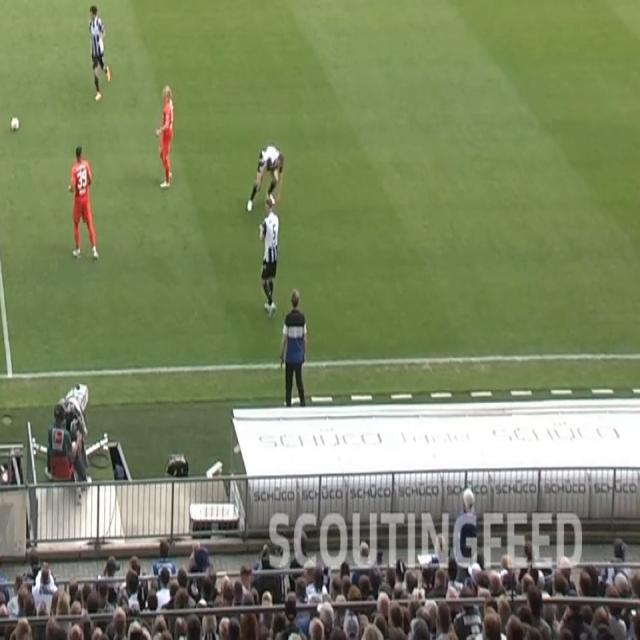ball: (10, 115, 20, 133)
